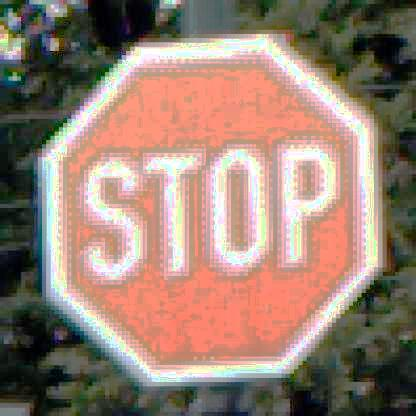Stop Sign: (37, 37, 386, 387)
